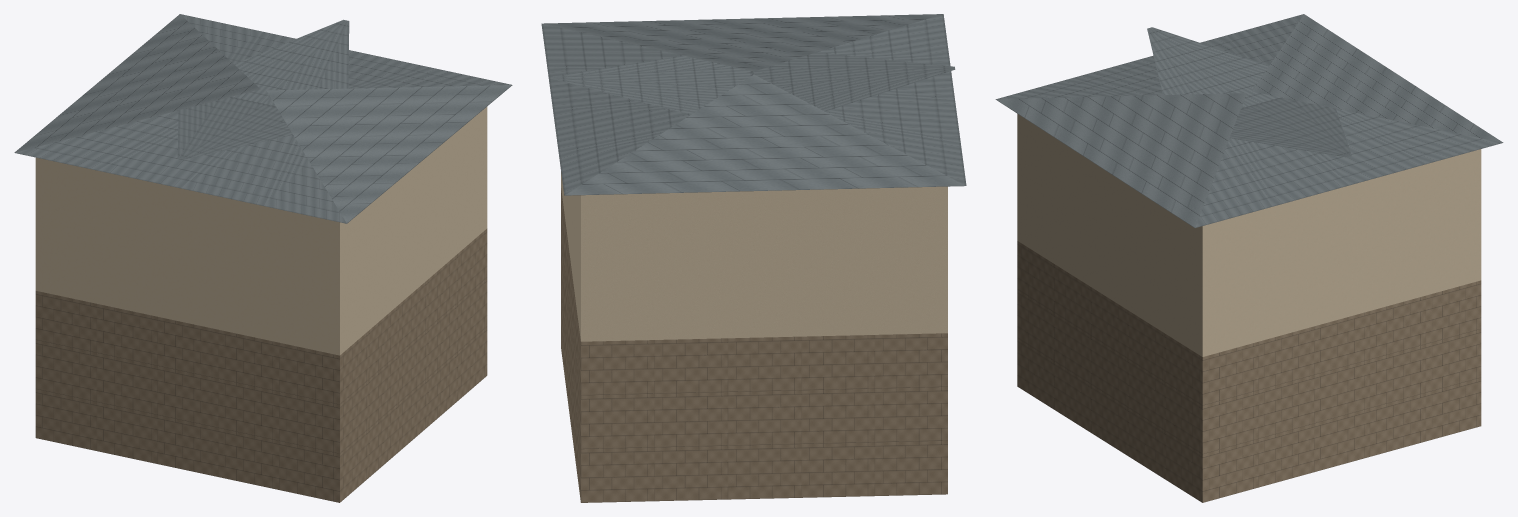
Rendered from bld_c43_33_257.gltf.
3 views of the same model, side by side, from view 1: azimuth 30°, elevation 25°; view 2: azimuth 150°, elevation 25°; view 3: azimuth 270°, elevation 25° (orthographic). The views are drawn at different scales.
Parts seen in each view (by area): view 1: bld_c43_33_257; view 2: bld_c43_33_257; view 3: bld_c43_33_257.
Part boxes in pixels (bbox=[...]): bld_c43_33_257: bbox=[14, 14, 512, 502]; bld_c43_33_257: bbox=[541, 14, 966, 502]; bld_c43_33_257: bbox=[995, 14, 1503, 502].
Bounding box in the file's own units: 15.95 × 10.9 × 15.99.
3 materials, 3 textured.
